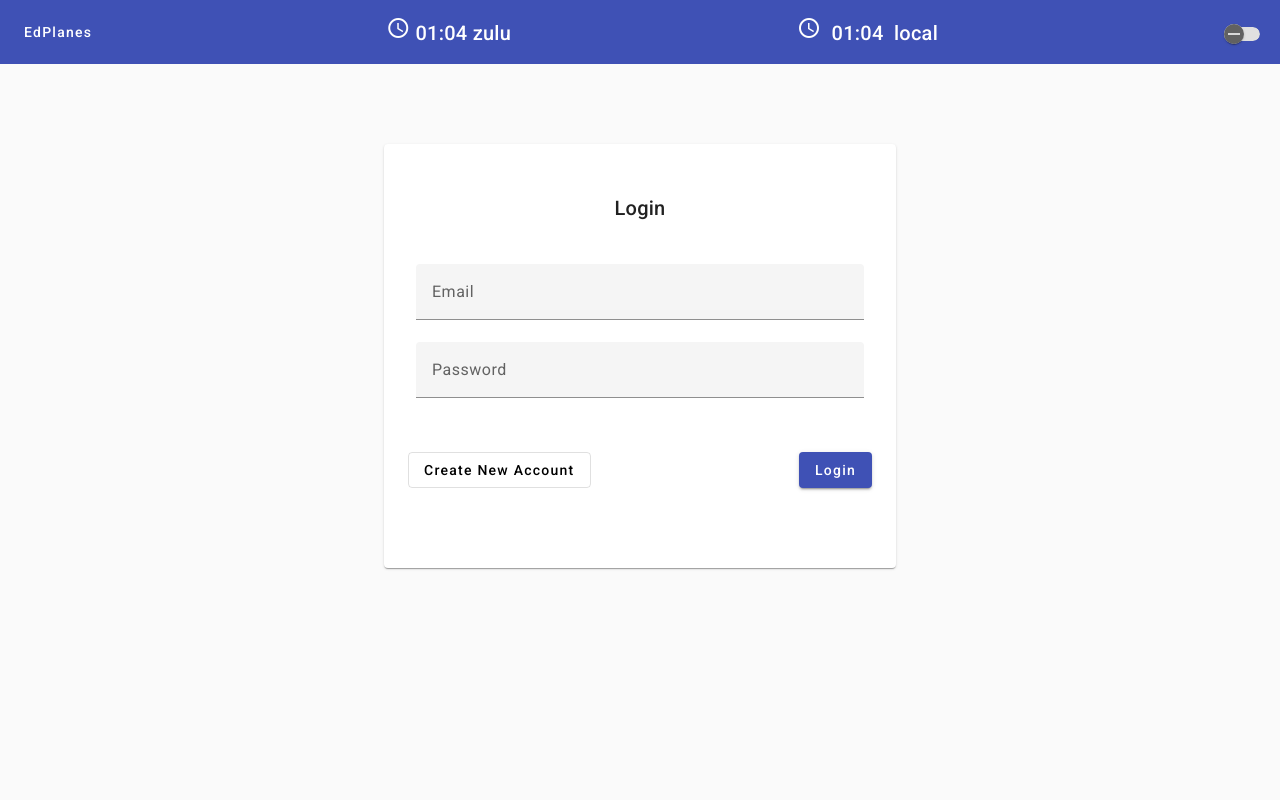
Login Page › display error alert when received from backend
Type "admin@localhost.com" into the field with placeholder "Email" at (640, 292), box x1=432 y1=280 x2=848 y2=304
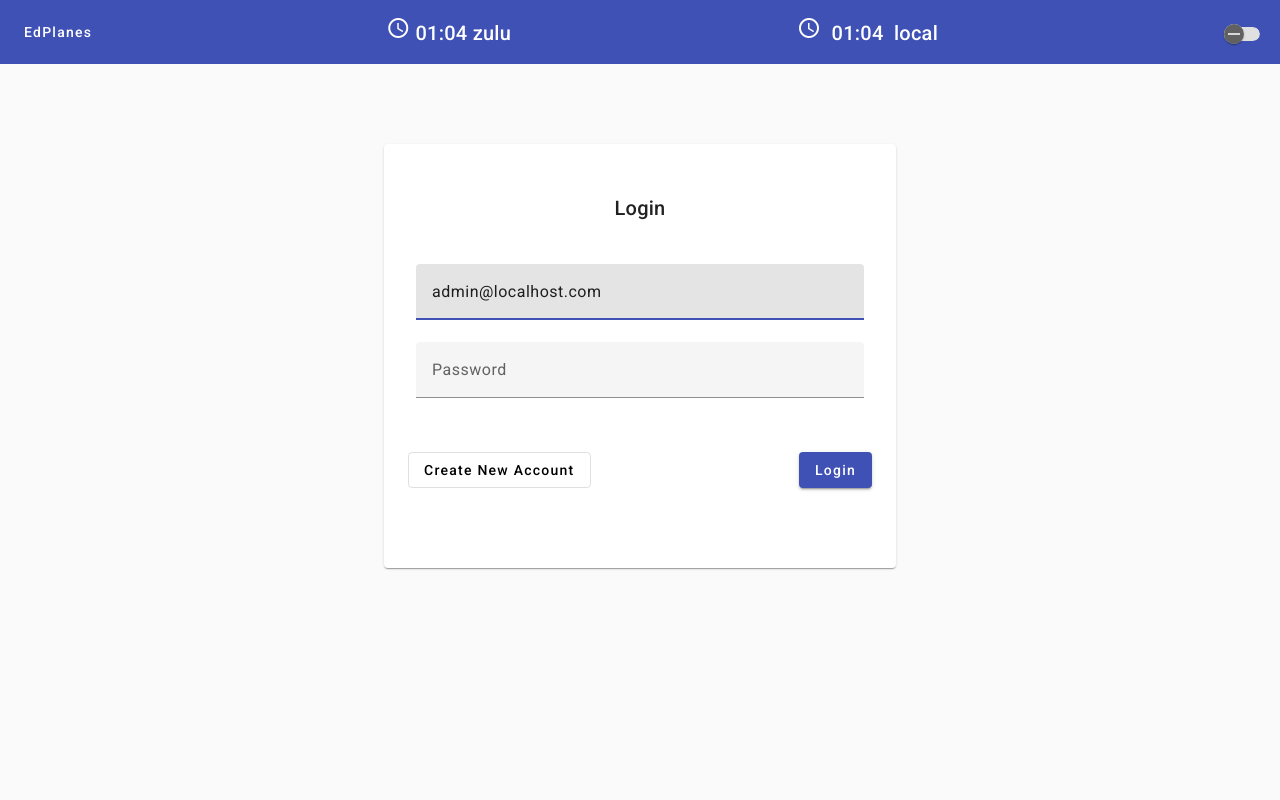
Type "admin" into the password field with placeholder "Password" at (640, 370), box x1=432 y1=358 x2=848 y2=382
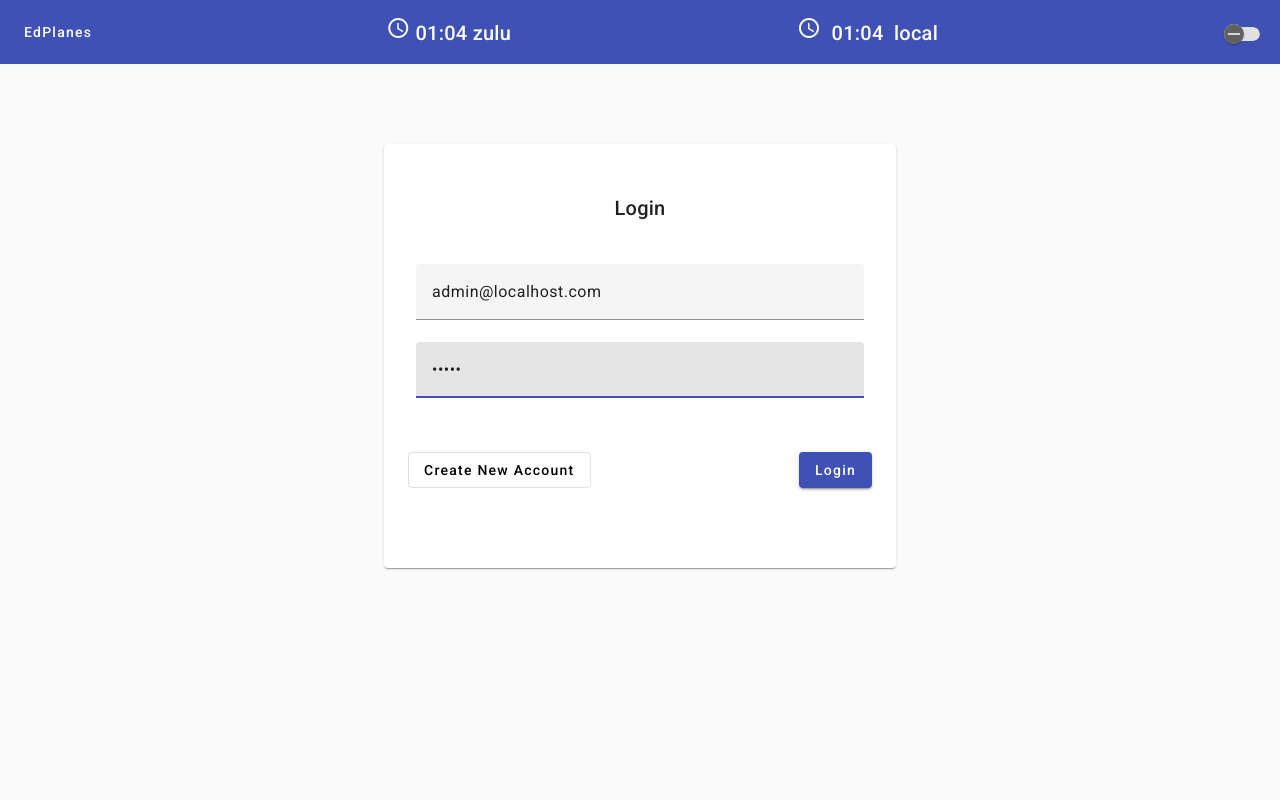
Click the submit button at (836, 470), box x1=799 y1=452 x2=872 y2=488
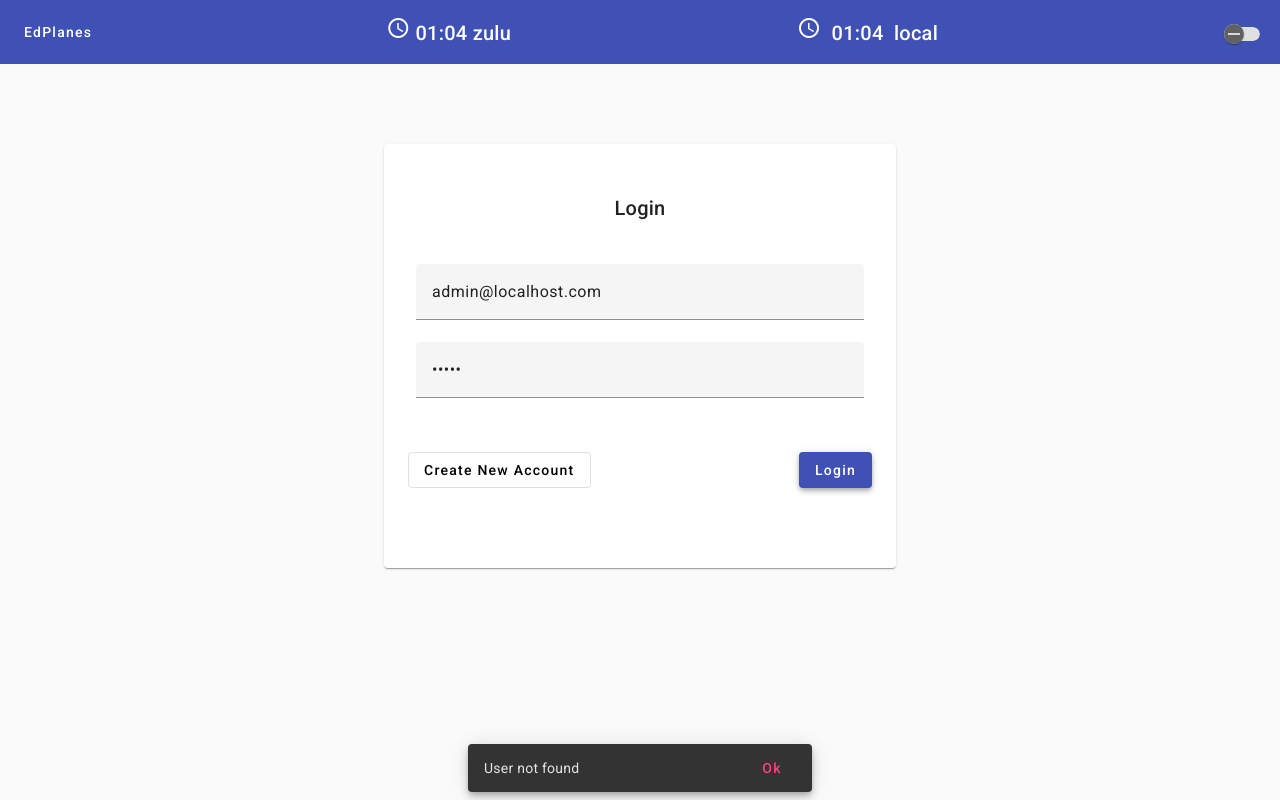
Result: the text "User not found" is shown at x1=484 y1=760 x2=579 y2=776
